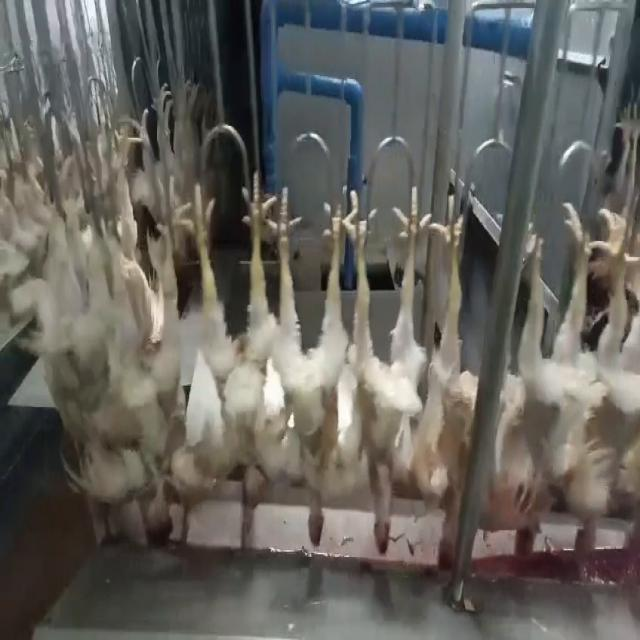chicken: (489, 204, 592, 567), (179, 166, 270, 534), (263, 184, 349, 546), (349, 183, 426, 556), (107, 192, 186, 546), (569, 193, 634, 582), (412, 192, 478, 546)
